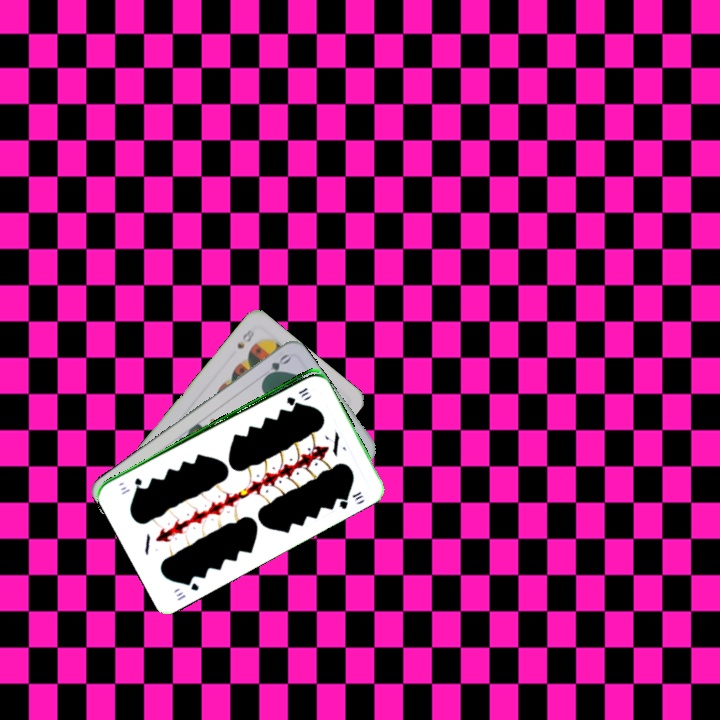G10: (173, 575, 201, 603), (282, 383, 311, 406)
GO: (258, 350, 293, 383)
S8: (233, 325, 257, 351)
